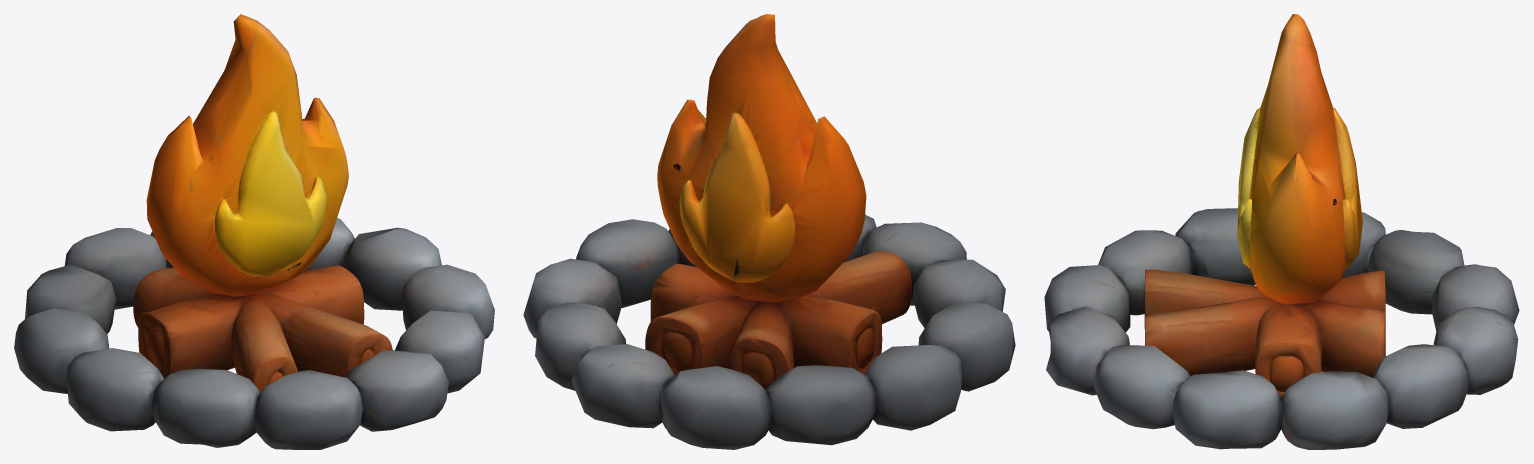
File: campfire_pbr.glb
3 views of the same model, side by side, from view 1: azimuth 30°, elevation 25°; view 2: azimuth 150°, elevation 25°; view 3: azimuth 270°, elevation 25° (orthographic). The views are drawn at different scales.
Visible parts, largest first — view 1: model; view 2: model; view 3: model.
Boxes of the visible parts, x1,y1,x2,y2 form: model: (14, 14, 494, 449); model: (523, 14, 1015, 449); model: (1044, 14, 1519, 449).
Size of the model in its own units: 1.85 by 1.47 by 1.85.
1 material, 1 textured.
